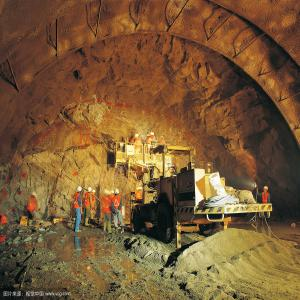white: (78, 186, 83, 194), (264, 186, 269, 194), (88, 188, 93, 195), (115, 189, 120, 196), (93, 190, 97, 196), (136, 134, 140, 140), (151, 133, 155, 138)
